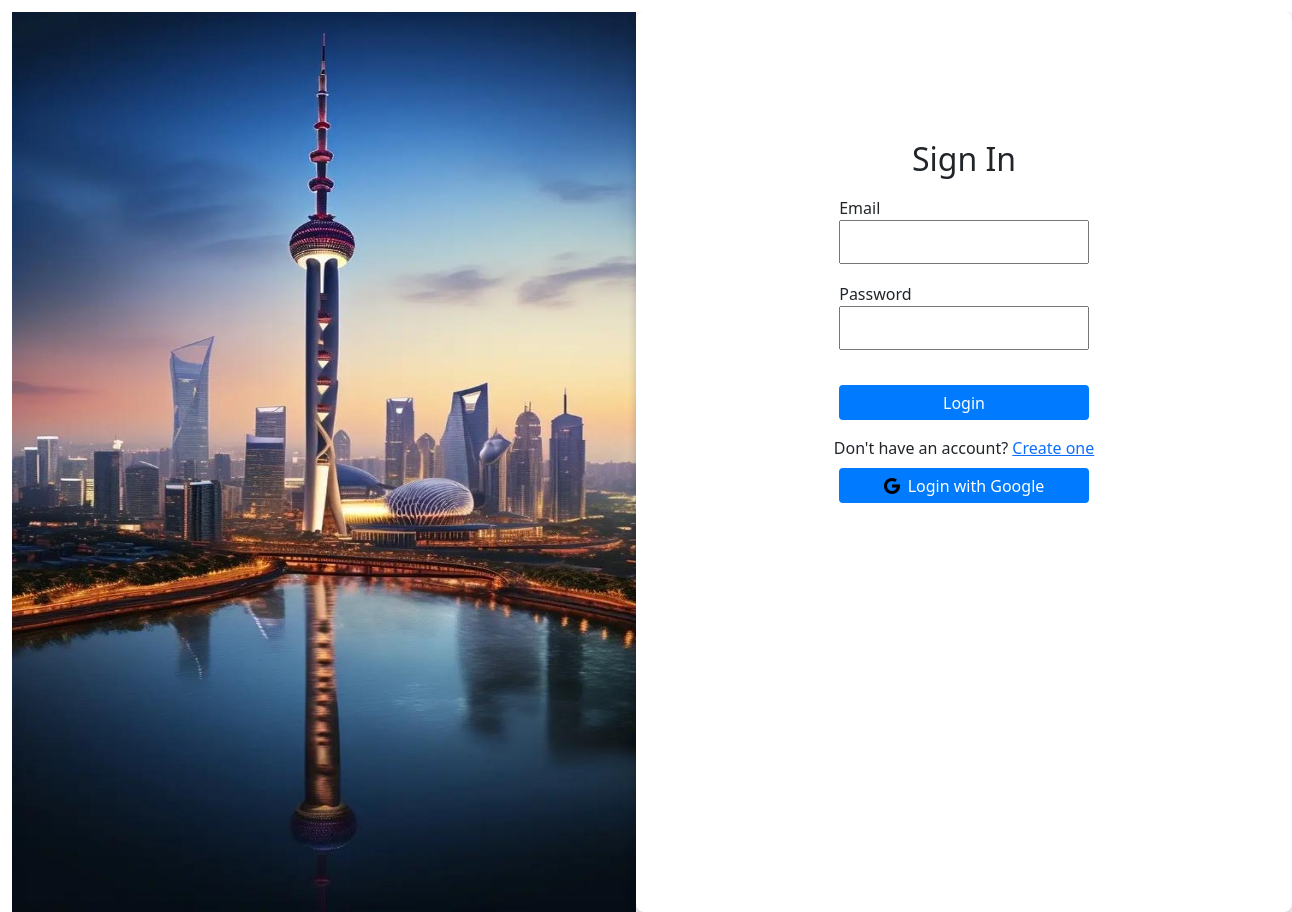
Test: Login Component › should display error message when Google login fails
Click the button "Login with Google". click: (964, 486)
box: [839,468,1089,503]
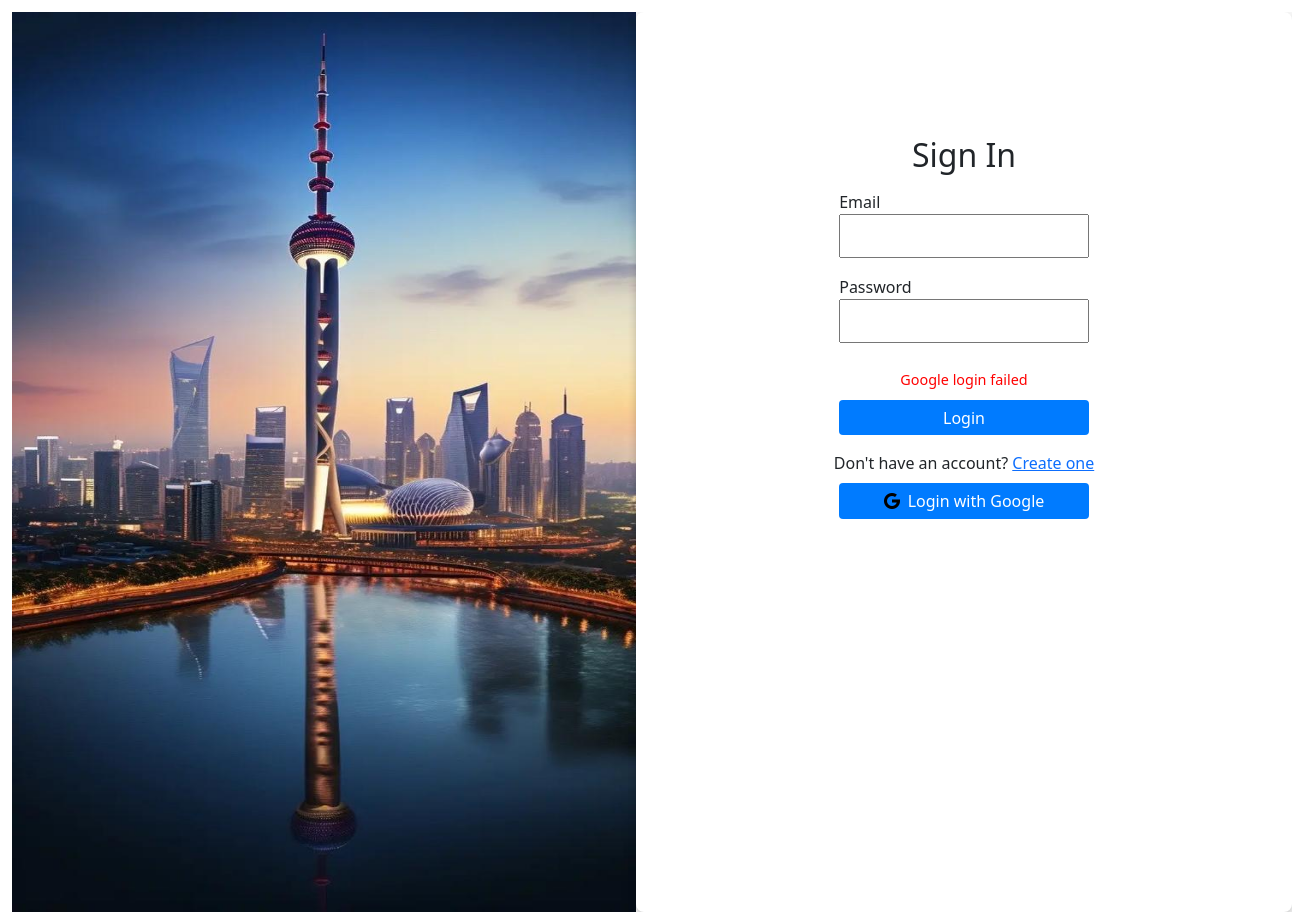
Expected: the text "Google login failed" is shown, [900,369,1028,391]
